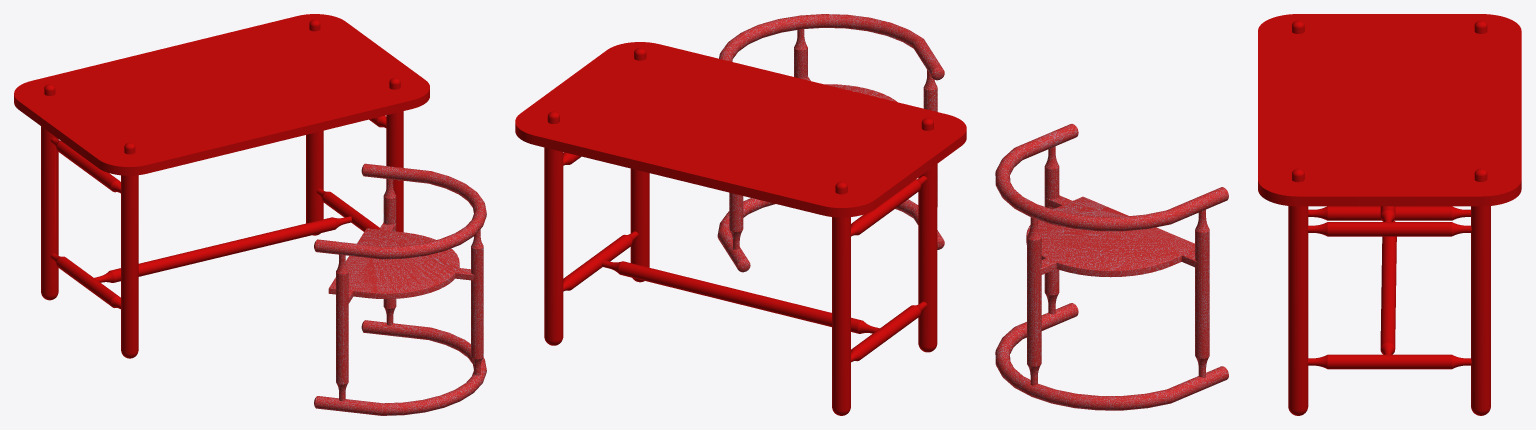
File: chair.dae
3 renders of one model, left to right at view 1: azimuth 30°, elevation 25°; view 2: azimuth 150°, elevation 25°; view 3: azimuth 270°, elevation 25°, orthographic. The views are drawn at different scales.
Parts seen in each view (by area): view 1: Difference (×11), Difference_11 (×2), seat, stretcher_1; view 2: Difference (×11), Difference_11 (×2), stretcher_1; view 3: Difference (×9), Difference_11 (×2), seat, stretcher_1.
Part boxes in pixels (x1,y1,x2,y2): Difference (×11): [14, 14, 483, 401]; Difference_11 (×2): [314, 163, 486, 415]; seat: [328, 222, 474, 303]; stretcher_1: [94, 216, 351, 282]; Difference (×11): [515, 29, 966, 415]; Difference_11 (×2): [717, 14, 944, 267]; stretcher_1: [602, 260, 879, 333]; Difference (×9): [1027, 14, 1521, 415]; Difference_11 (×2): [995, 124, 1228, 410]; seat: [1026, 195, 1197, 277]; stretcher_1: [1380, 221, 1396, 354].
Bounding box in the file's own units: 29.5 × 35.93 × 18.5.
